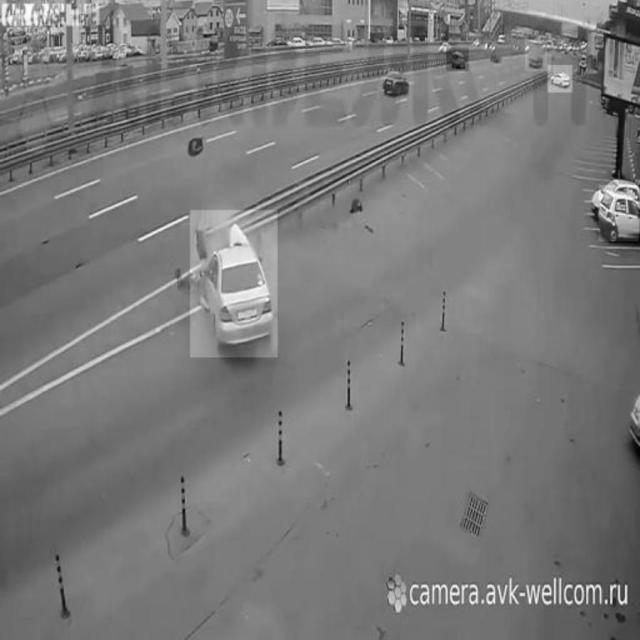accident: (190, 211, 278, 358)
vehicle: (599, 186, 639, 242), (382, 68, 412, 100), (525, 39, 547, 71), (548, 65, 573, 93), (447, 47, 469, 71)
